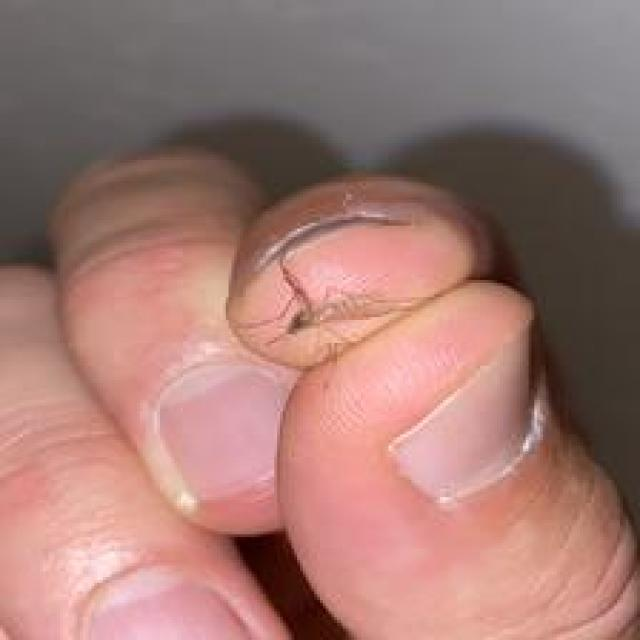Culex: (225, 199, 424, 370)
